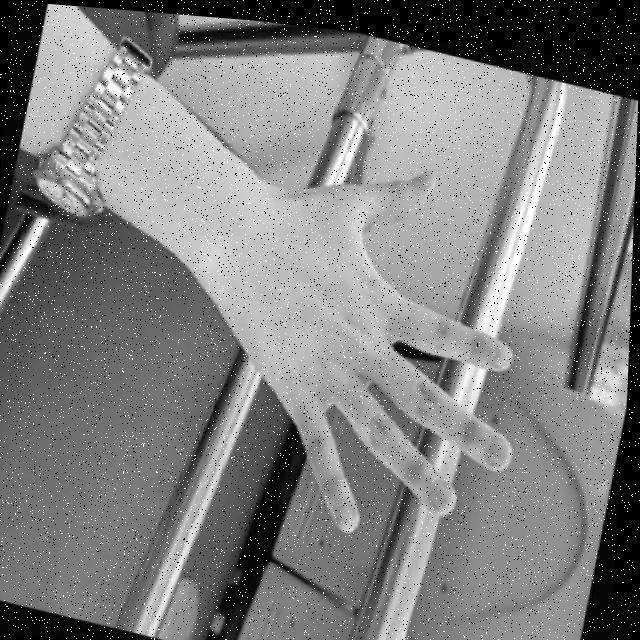no-gloves: (159, 126, 537, 544)
